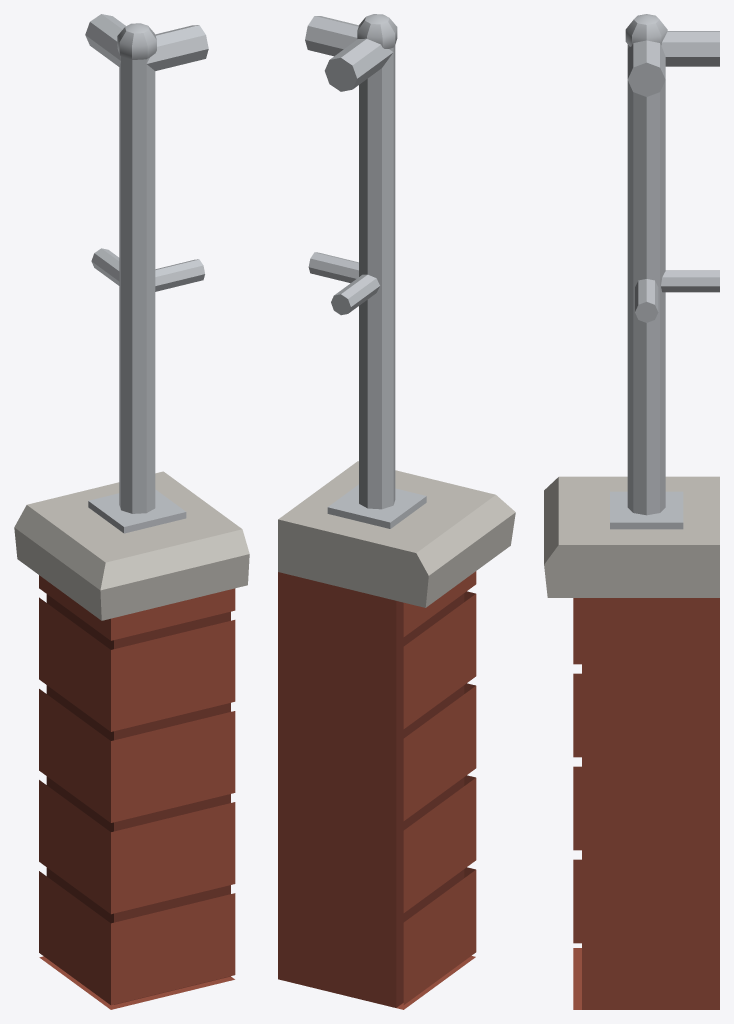
The model's file is SC_Bld_Villa_Roof_Railing_Corner.gltf.
3 views of the same model, side by side, from view 1: azimuth 30°, elevation 25°; view 2: azimuth 150°, elevation 25°; view 3: azimuth 270°, elevation 25° (orthographic). The views are drawn at different scales.
Parts seen in each view (by area): view 1: SC_Bld_Villa_Roof_Railing_Corner; view 2: SC_Bld_Villa_Roof_Railing_Corner; view 3: SC_Bld_Villa_Roof_Railing_Corner.
Part boxes in pixels (box(x1,y1,x2,y2)): SC_Bld_Villa_Roof_Railing_Corner: box(14, 14, 249, 1009); SC_Bld_Villa_Roof_Railing_Corner: box(278, 14, 515, 1009); SC_Bld_Villa_Roof_Railing_Corner: box(544, 14, 719, 1009).
Size of the model in its own units: 0.24 by 1.45 by 0.24.
1 material, 1 textured.
